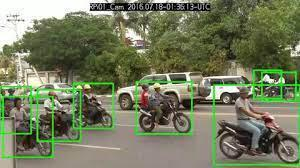motorcycle: (216, 104, 300, 166), (132, 92, 195, 134), (12, 116, 52, 160), (72, 100, 114, 129), (40, 110, 77, 140), (270, 74, 298, 102), (250, 80, 278, 98)
